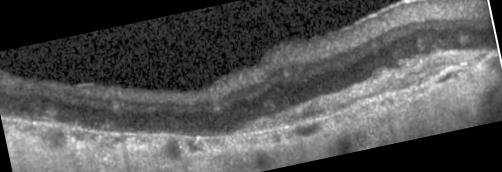subretinal_hyperreflective_material: (234, 47, 495, 135)
